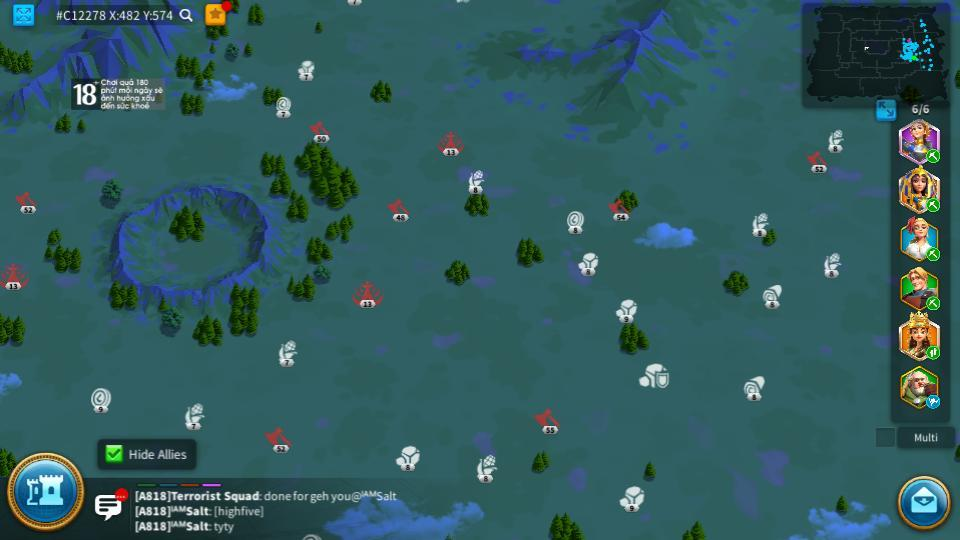march_idle: (925, 396, 942, 408)
march_marching: (925, 197, 941, 212), (925, 345, 941, 359), (925, 149, 941, 162), (925, 297, 942, 308), (925, 250, 941, 261)
